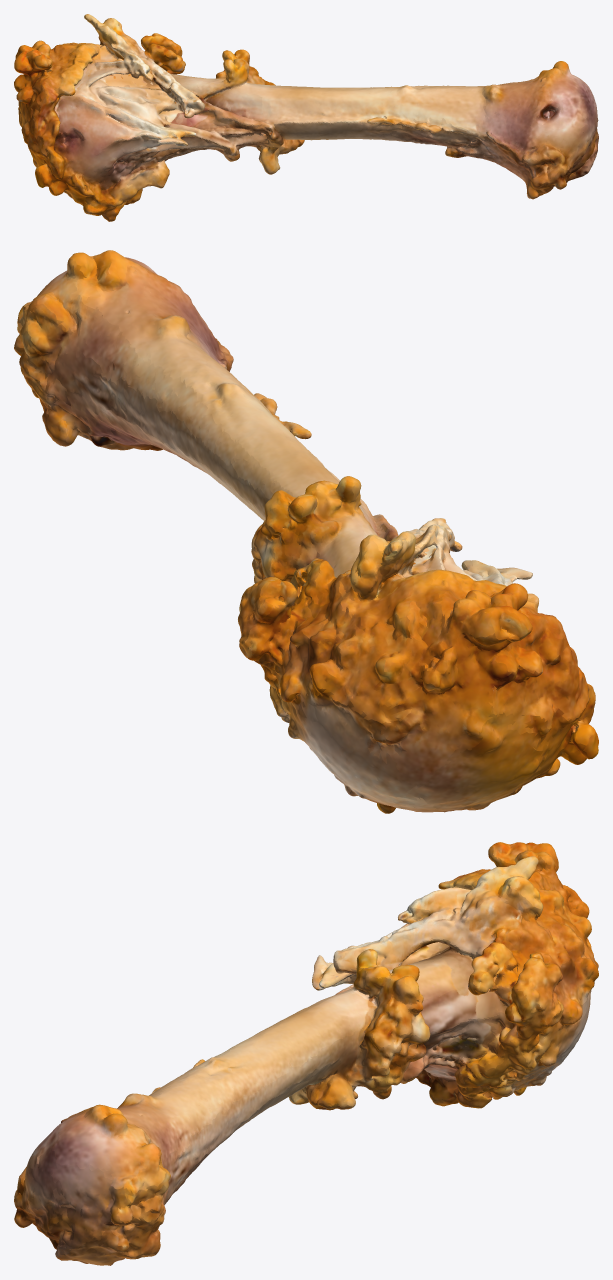
3 renders of one model, top to bottom at view 1: azimuth 30°, elevation 25°; view 2: azimuth 150°, elevation 25°; view 3: azimuth 270°, elevation 25°, orthographic. The views are drawn at different scales.
Visible parts, largest first — view 1: FoodRedoV2Alignment-0; view 2: FoodRedoV2Alignment-0; view 3: FoodRedoV2Alignment-0.
Part boxes in pixels (bbox=[...]): FoodRedoV2Alignment-0: bbox=[14, 14, 598, 221]; FoodRedoV2Alignment-0: bbox=[14, 250, 598, 813]; FoodRedoV2Alignment-0: bbox=[14, 842, 598, 1265].
Bounding box in the file's own units: 0.1284 × 0.0465 × 0.1021.
1 material, 1 textured.
